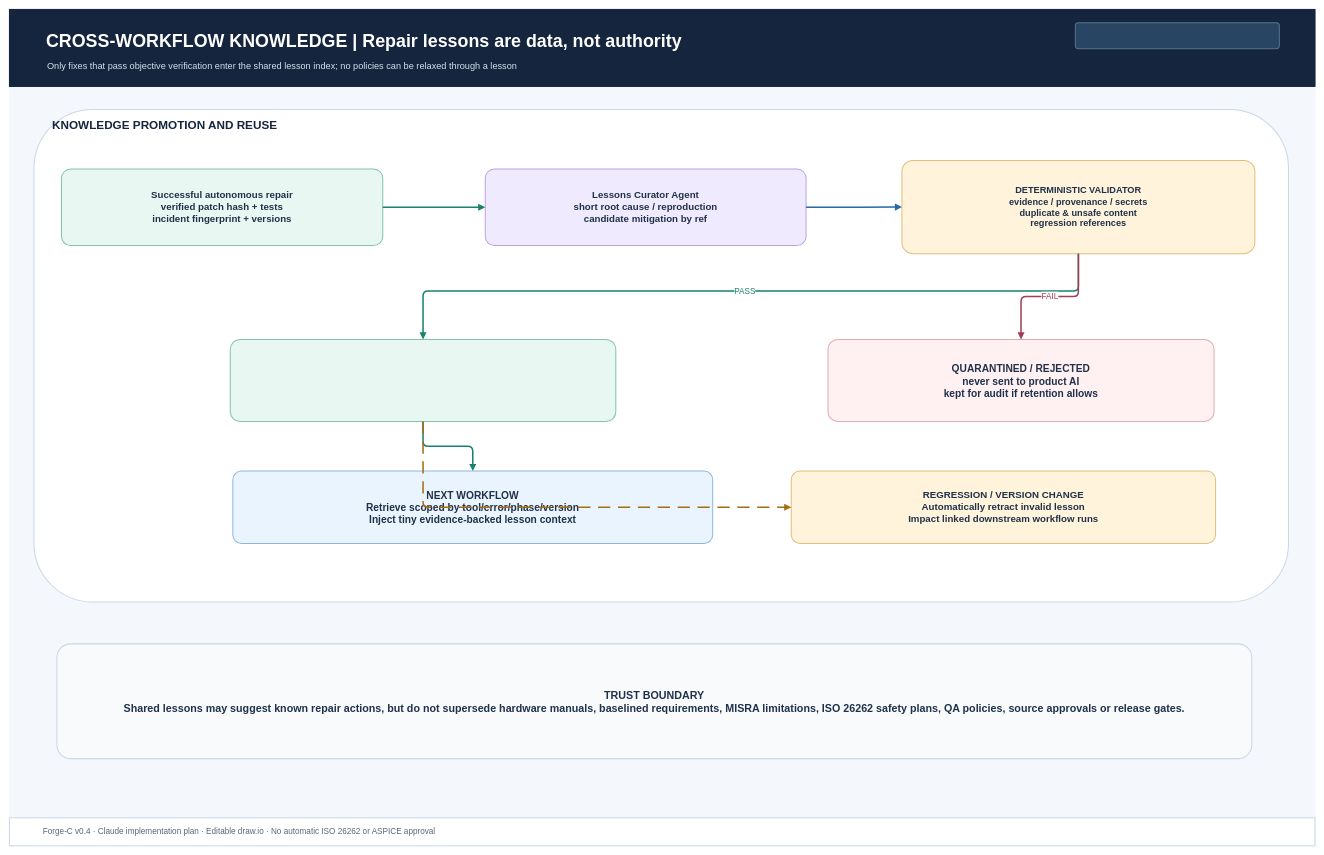
Some shapes in this 1324 by 855 pixel diagram are drawn without their labels. The centre of each missing label's shape, as x and y in pixels:
"DESIGN — NOT IMPLEMENTED" goes at pixel 1177 35.
"VALIDATED LESSON INDEX versioned, retrievable, revocable top K=3 · token <=700" goes at pixel 423 380.
